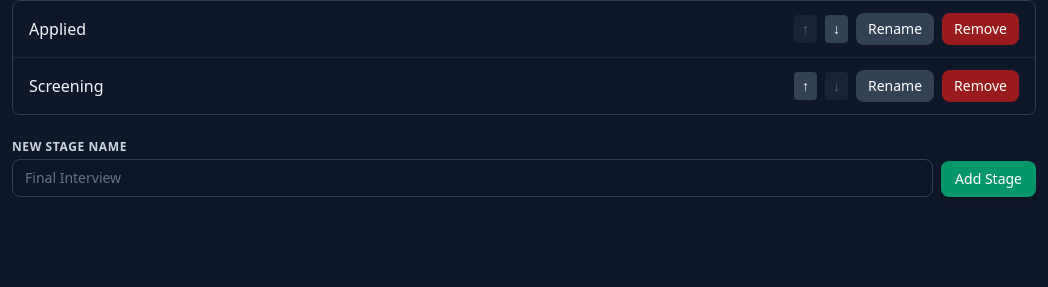
Test case: StageConfigPanel › shows a validation error for an empty new stage name (AC-1)
Click the button "Add Stage": coordinates (989, 179) [941, 161, 1036, 197]
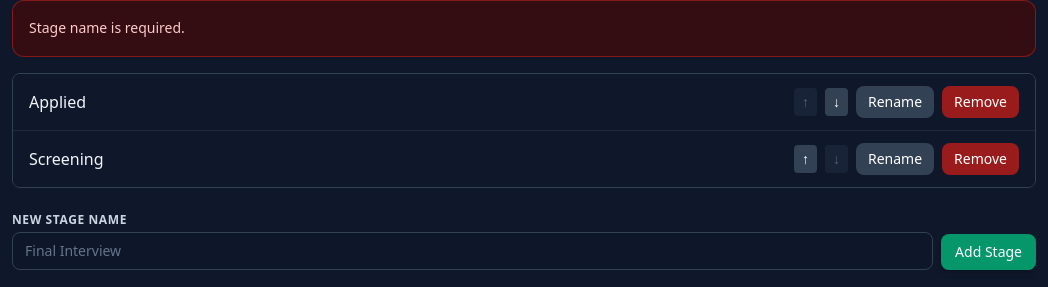
Result: the message shows "Stage name is required" at [29, 18, 185, 37]
